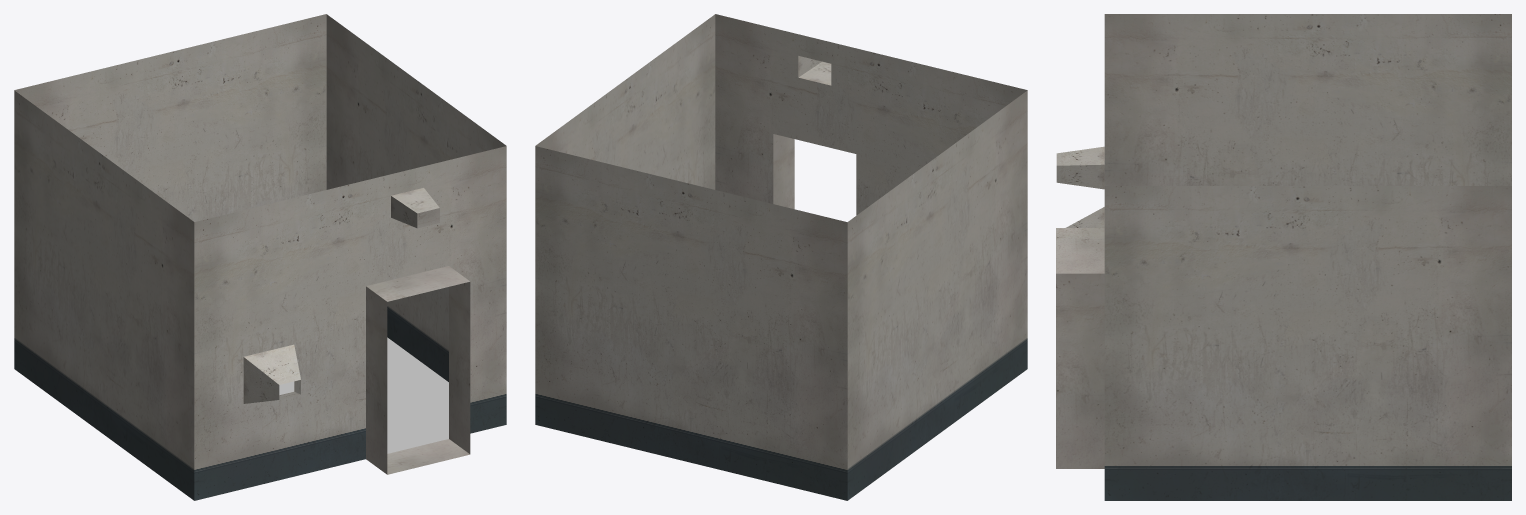
File: 1st_room3.FBX
The picture shows the model from 3 angles, left to right: view 1: azimuth 30°, elevation 25°; view 2: azimuth 150°, elevation 25°; view 3: azimuth 270°, elevation 25°; orthographic projection. The views are drawn at different scales.
Visible parts, largest first — view 1: 1f_room001; view 2: 1f_room001; view 3: 1f_room001.
Boxes of the visible parts, box(x1,y1,x2,y2) form: 1f_room001: box(14, 14, 506, 500); 1f_room001: box(535, 14, 1027, 500); 1f_room001: box(1056, 14, 1511, 500).
Size of the model in its own units: 400 by 341 by 448.
